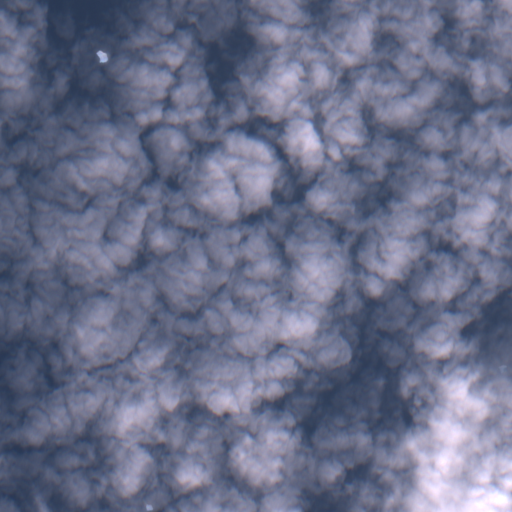Iceberg: (96, 51, 107, 62), (146, 505, 152, 509)
